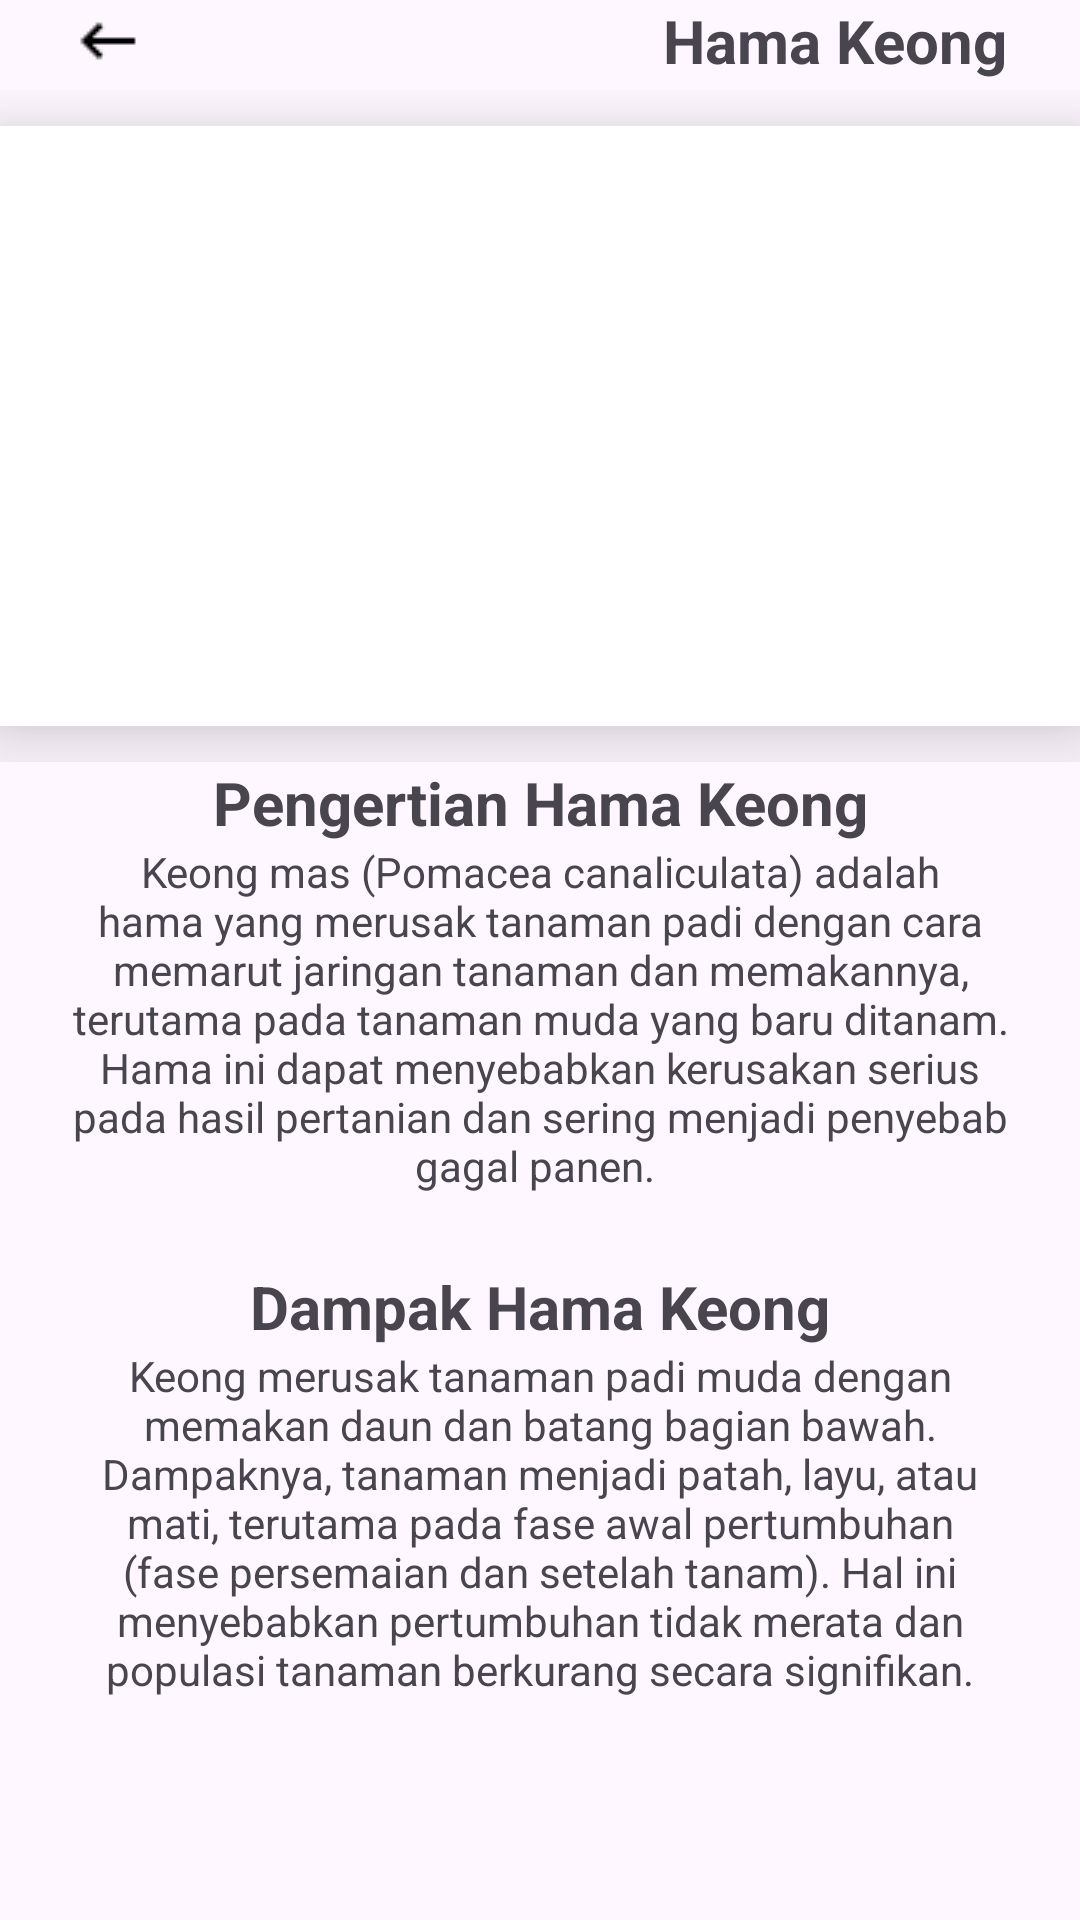

Where icons sit on this 1080w x 1920h app screen, as (x1, y1, x2, y2):
keyboard backspace: (80, 22, 136, 60)
